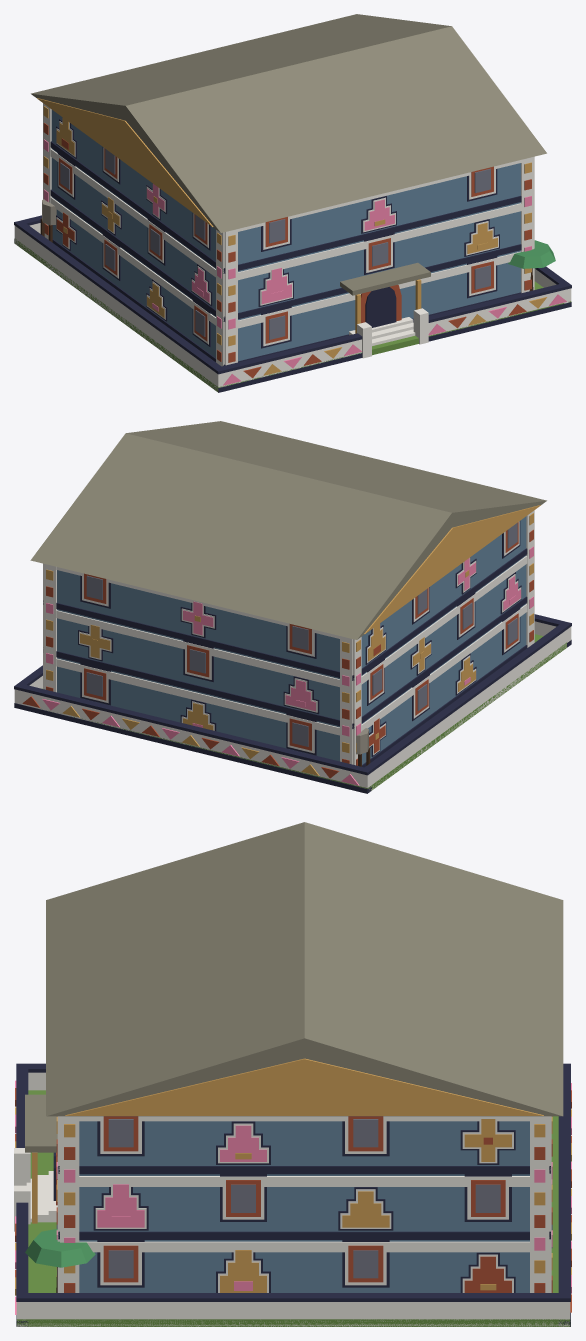
Rendered from house-2x2-3f-ndebele-a.glb.
3 renders of one model, top to bottom at view 1: azimuth 30°, elevation 25°; view 2: azimuth 150°, elevation 25°; view 3: azimuth 270°, elevation 25°, orthographic. The views are drawn at different scales.
Parts seen in each view (by area): view 1: house-2x2-3f-ndebele-a; view 2: house-2x2-3f-ndebele-a; view 3: house-2x2-3f-ndebele-a.
Boxes of the visible parts, x1,y1,x2,y2 form: house-2x2-3f-ndebele-a: (14,14,571,392); house-2x2-3f-ndebele-a: (14,421,571,793); house-2x2-3f-ndebele-a: (14,822,571,1326).
Size of the model in its own units: 1.99 by 1.11 by 2.01.
1 material, 1 textured.
